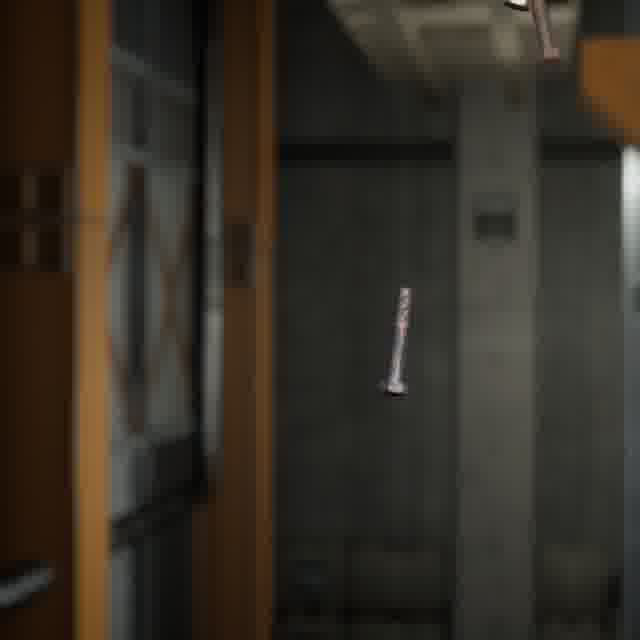bolt: (374, 282, 417, 400), (527, 0, 569, 78)
